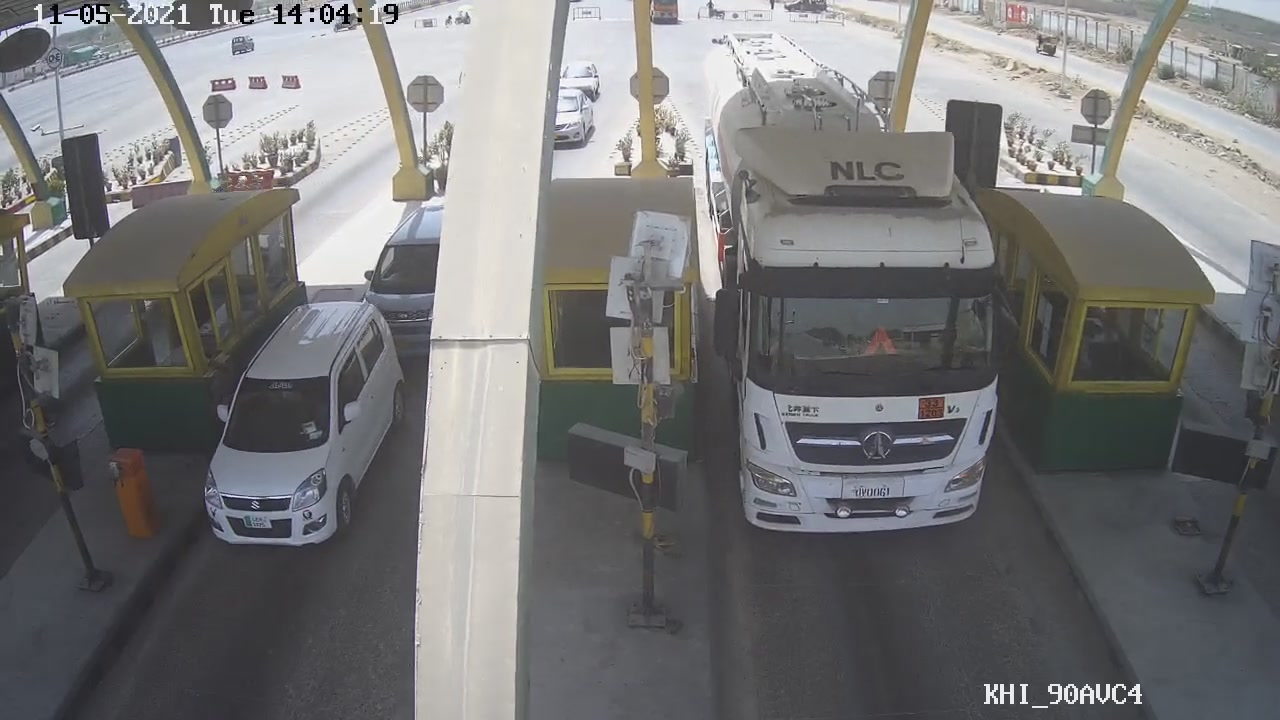F6: (698, 76, 1016, 541)
